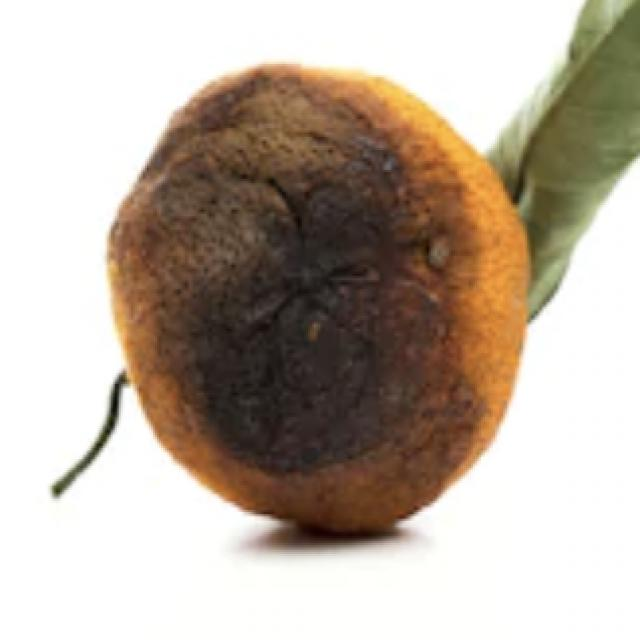rotten-orange: (97, 62, 536, 543)
